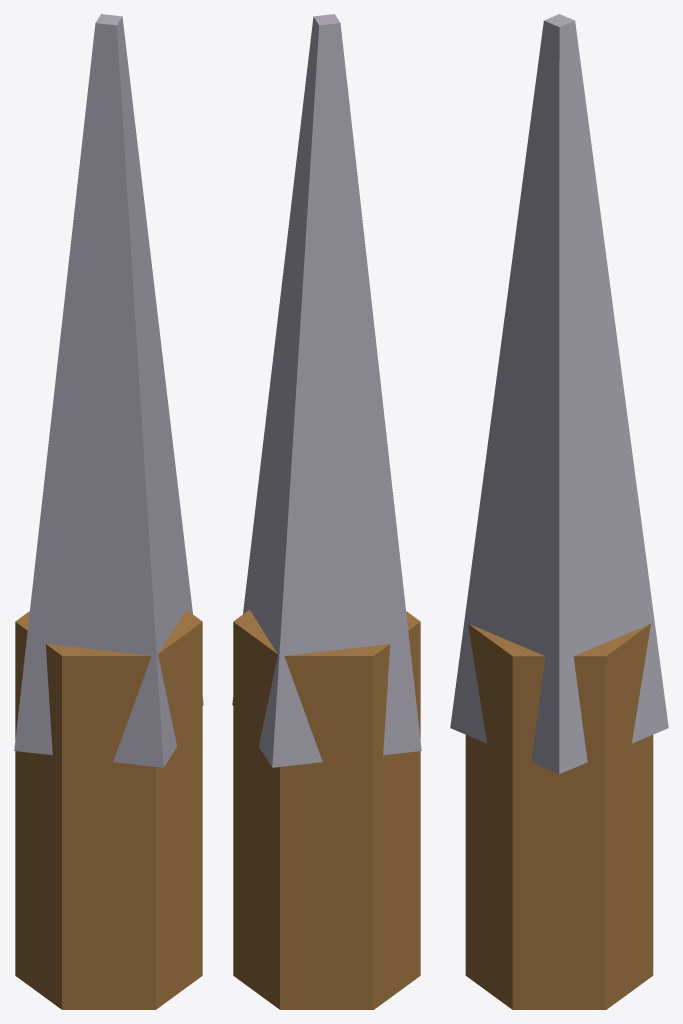
Rendered from flint_dagger.dae.
3 renders of one model, left to right at view 1: azimuth 30°, elevation 25°; view 2: azimuth 150°, elevation 25°; view 3: azimuth 270°, elevation 25°, orthographic.
Visible parts, largest first — view 1: Cone, Cylinder; view 2: Cone, Cylinder; view 3: Cone, Cylinder.
Part boxes in pixels (left/top/right/bottom): Cone: left=14, top=14, right=203, bottom=767; Cylinder: left=15, top=610, right=202, bottom=1009; Cone: left=232, top=14, right=421, bottom=767; Cylinder: left=233, top=610, right=420, bottom=1009; Cone: left=450, top=14, right=668, bottom=773; Cylinder: left=465, top=623, right=653, bottom=1009.
Bounding box in the file's own units: 14 × 14 × 67.5.
